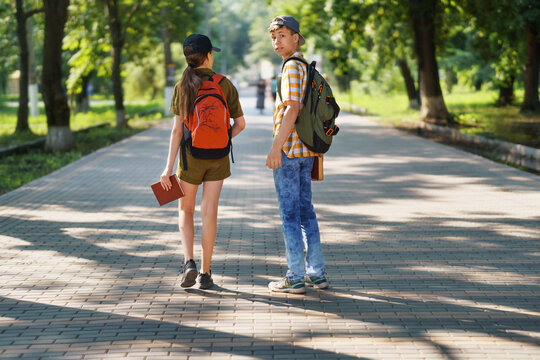person: (147, 33, 246, 292), (264, 14, 341, 294)
